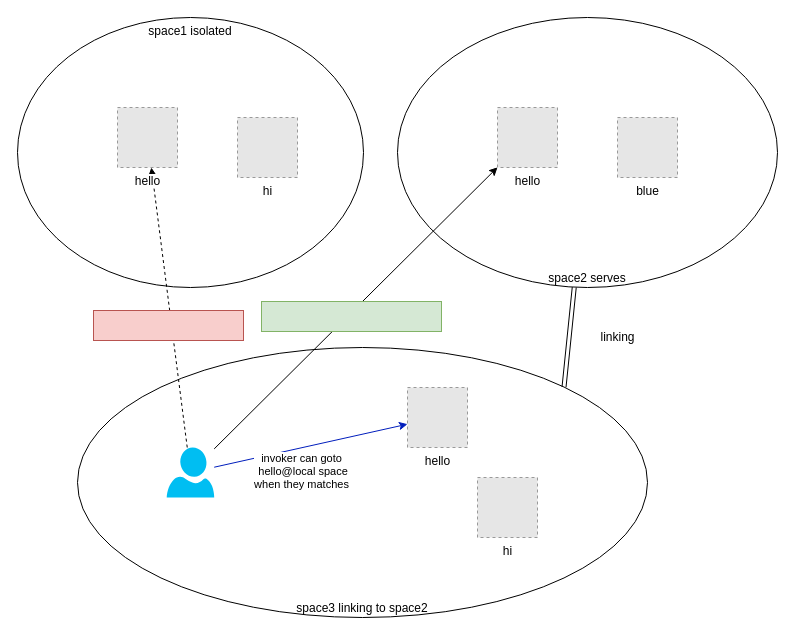
The diagram is 795 pixels wide and 635 high, and some of its shapes have lost their labels. Grey dashed boxes stand in for pictures. Each missing label, with the centre of its shape:
invoker: the point at 190,472
invoker can goto hello@space2 when they matches: the point at 351,316
invoker can not goto hello @space3: the point at 168,325
